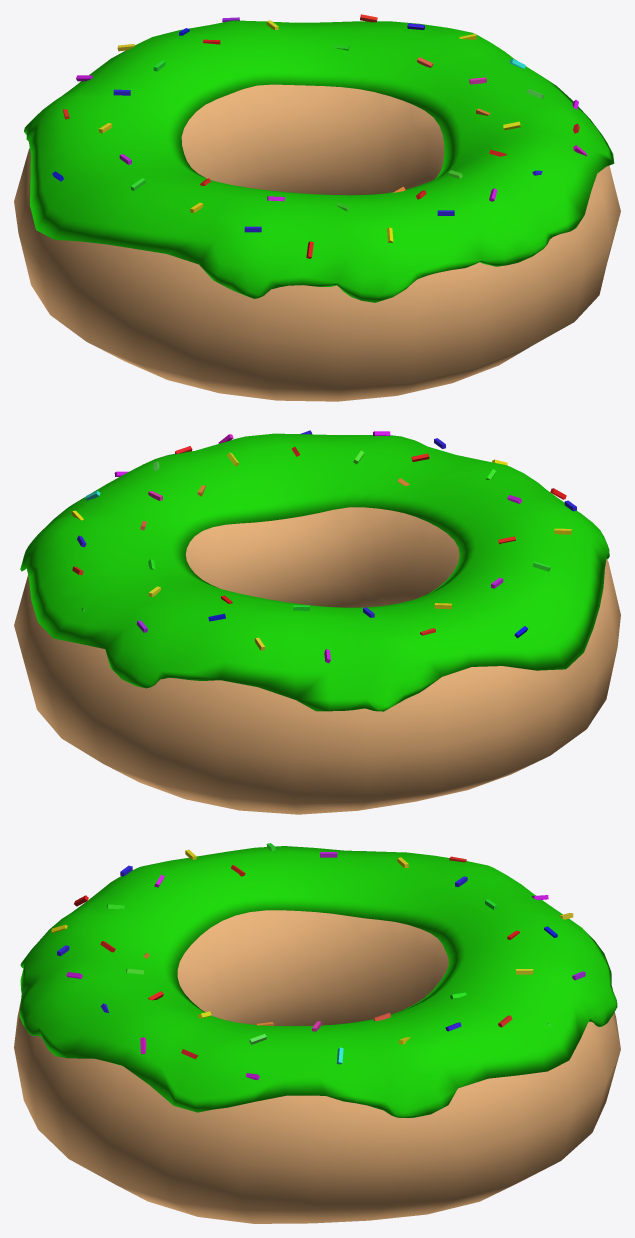
The model's file is Lowpoly-Donut-Green.fbx.
3 views of the same model, one above another, from view 1: azimuth 30°, elevation 25°; view 2: azimuth 150°, elevation 25°; view 3: azimuth 270°, elevation 25° (orthographic).
Parts seen in each view (by area): view 1: Icing, Donut; view 2: Icing, Donut; view 3: Icing, Donut.
Part boxes in pixels (left/top/right/bottom): Icing: left=24, top=20, right=614, bottom=302; Donut: left=14, top=84, right=620, bottom=401; Icing: left=20, top=433, right=609, bottom=711; Donut: left=14, top=507, right=620, bottom=814; Icing: left=19, top=846, right=617, bottom=1117; Donut: left=14, top=910, right=620, bottom=1223.
Size of the model in its own units: 14.32 by 4.94 by 14.16.
